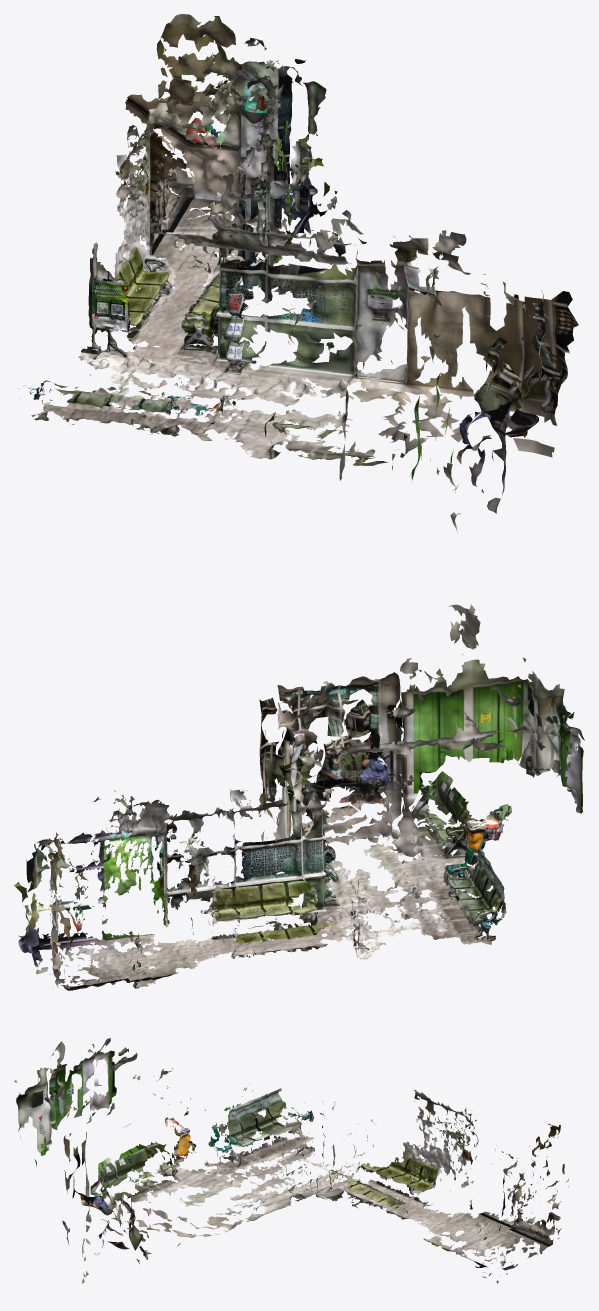
The model's file is 144560-lt3h-tex.glb.
The picture shows the model from 3 angles, top to bottom: view 1: azimuth 30°, elevation 25°; view 2: azimuth 150°, elevation 25°; view 3: azimuth 270°, elevation 25°; orthographic projection. The views are drawn at different scales.
Parts seen in each view (by area): view 1: Node; view 2: Node; view 3: Node.
Boxes of the visible parts, <box> form: Node: <box>25,14,578,533</box>; Node: <box>14,604,584,990</box>; Node: <box>14,1038,568,1283</box>.
Bounding box in the file's own units: 8.78 × 6.35 × 14.29.
20 materials, 20 textured.
